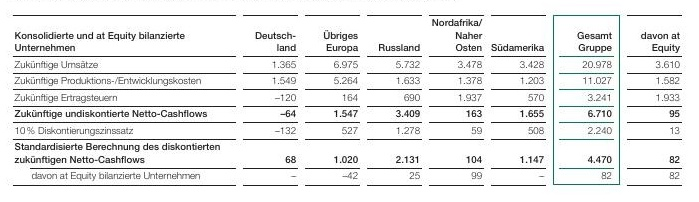table: (0, 0, 699, 202)
